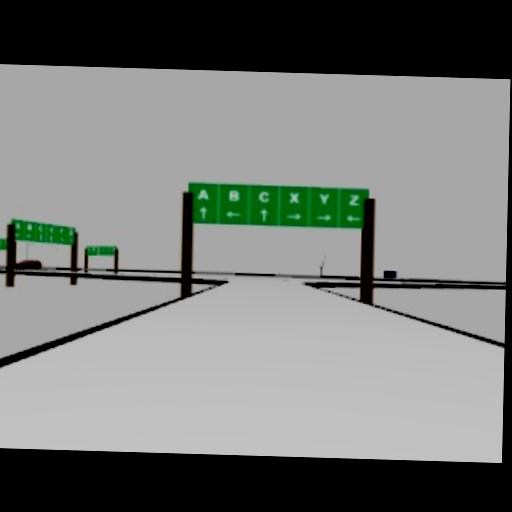A: (197, 189, 209, 201)
B: (227, 190, 240, 202), (24, 222, 32, 230)
C: (257, 191, 269, 203)
Left: (225, 210, 242, 218), (345, 215, 360, 222)
Right: (315, 212, 332, 221), (285, 212, 302, 220)
Straight: (258, 207, 269, 221), (198, 206, 207, 219)
X: (287, 192, 299, 204)
Y: (317, 193, 329, 205)
Z: (347, 193, 360, 206), (47, 225, 55, 243), (15, 229, 27, 241), (36, 224, 44, 241), (30, 221, 40, 229), (60, 225, 70, 233), (66, 228, 73, 238), (15, 222, 21, 229)
